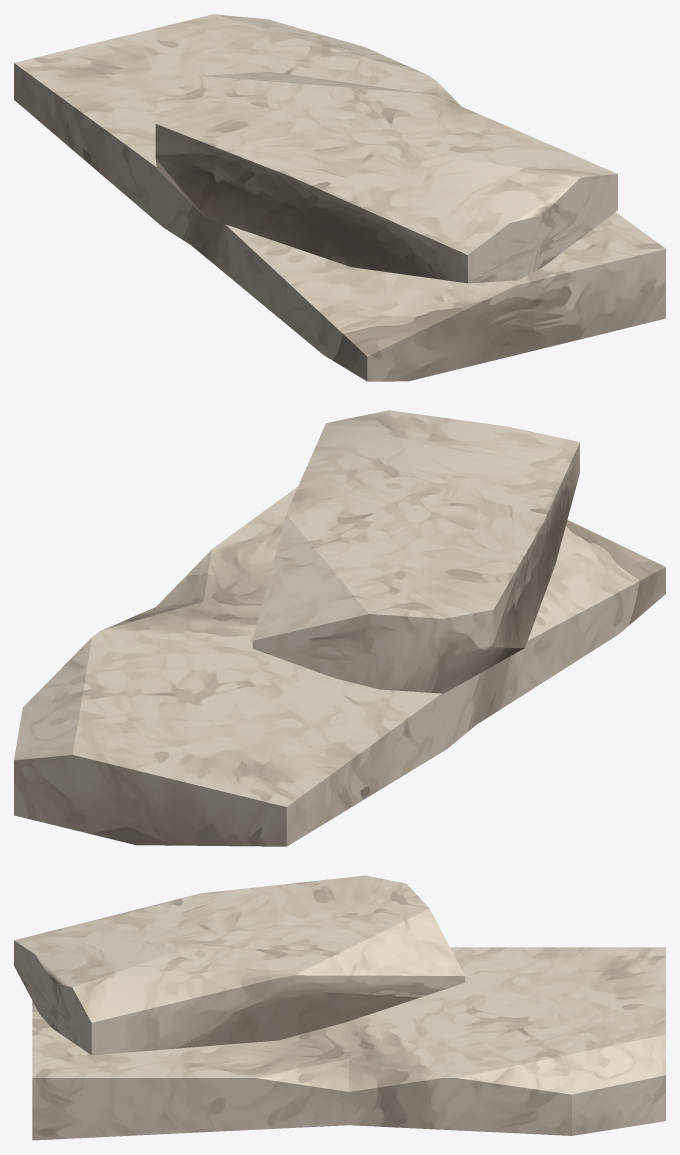
The model's file is ruina_2_top.obj.
3 views of the same model, one above another, from view 1: azimuth 30°, elevation 25°; view 2: azimuth 150°, elevation 25°; view 3: azimuth 270°, elevation 25° (orthographic). The views are drawn at different scales.
Parts seen in each view (by area): view 1: Cylinder.013; view 2: Cylinder.013; view 3: Cylinder.013.
Boxes of the visible parts, x1,y1,x2,y2 form: Cylinder.013: (14,14,665,381); Cylinder.013: (14,410,665,846); Cylinder.013: (14,875,665,1140).
Bounding box in the file's own units: 10.01 × 4.13 × 19.45.
1 material, 1 textured.
